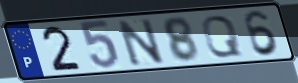2: (40, 24, 83, 73)
5: (76, 18, 122, 72)
6: (243, 8, 279, 58)
8: (162, 15, 202, 64)
N: (114, 17, 168, 68)
Q: (200, 14, 245, 59)
